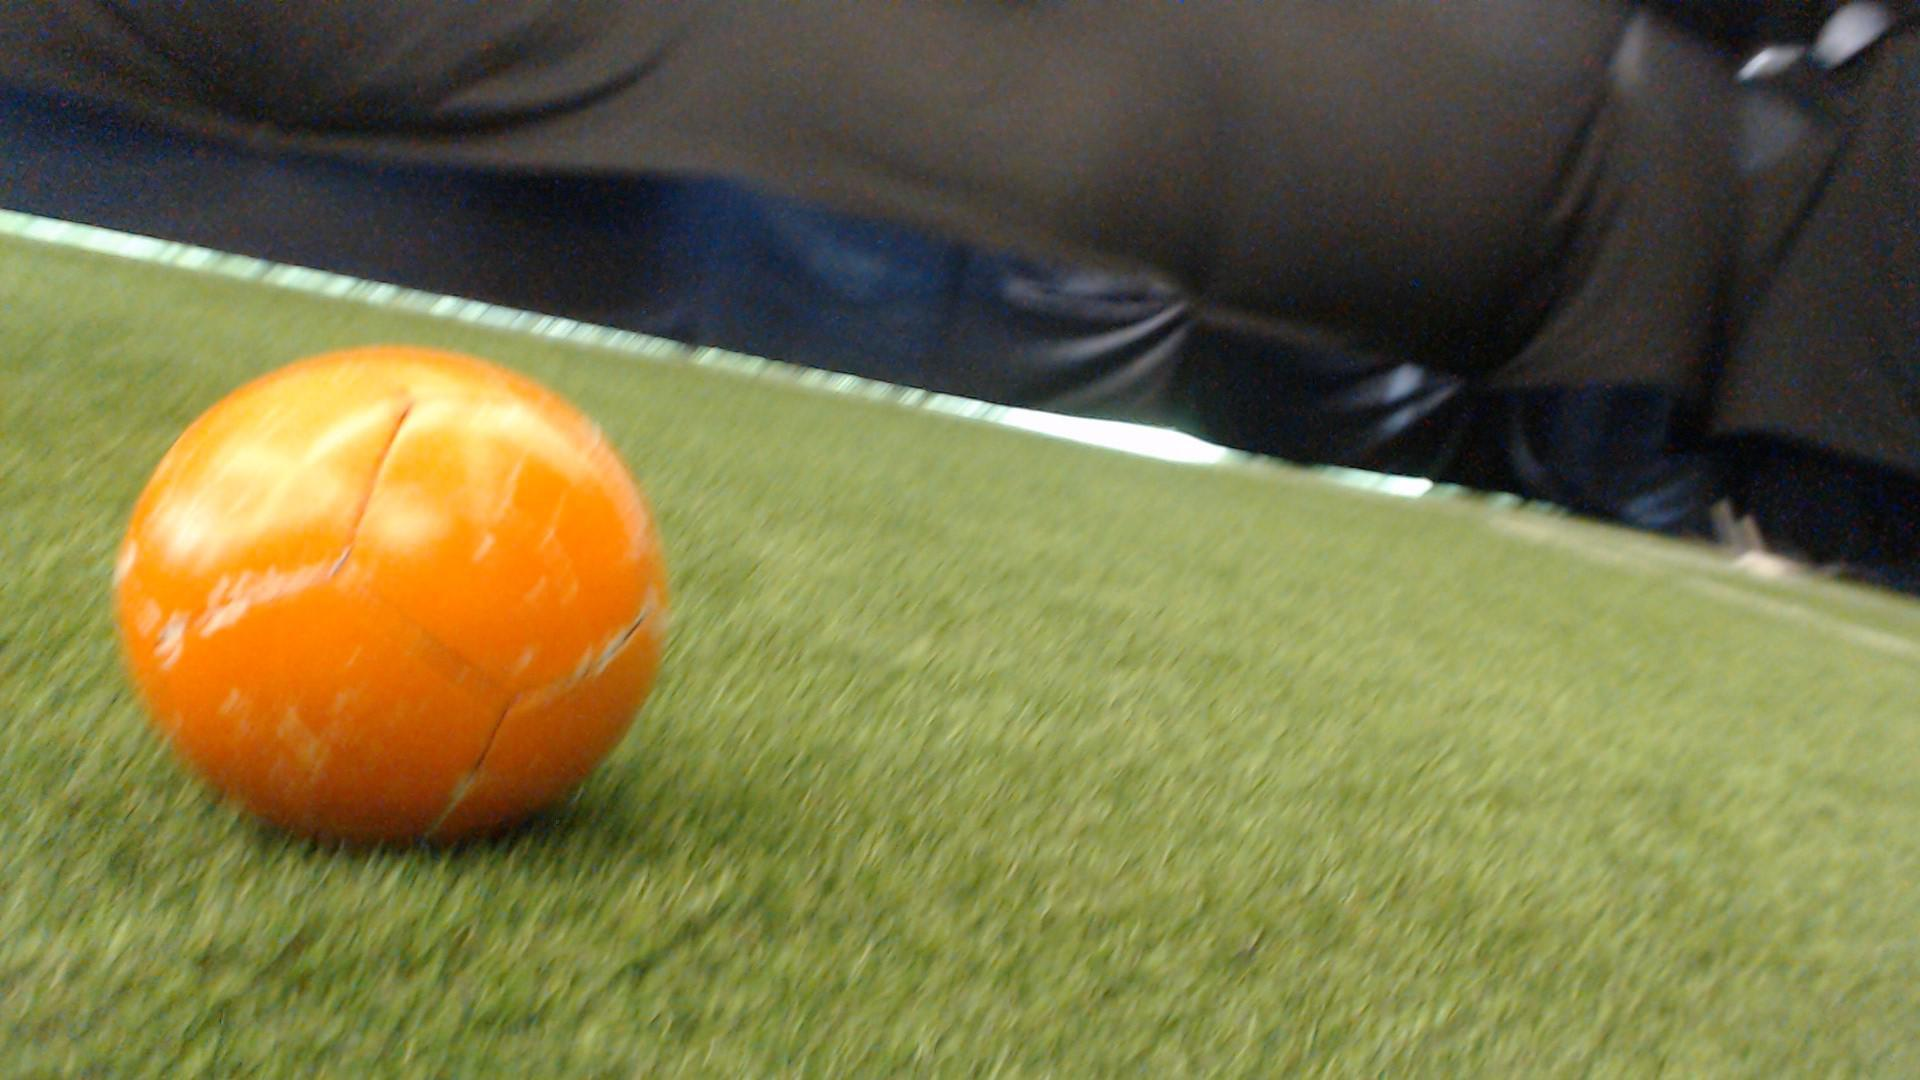bola: (91, 332, 712, 864)
